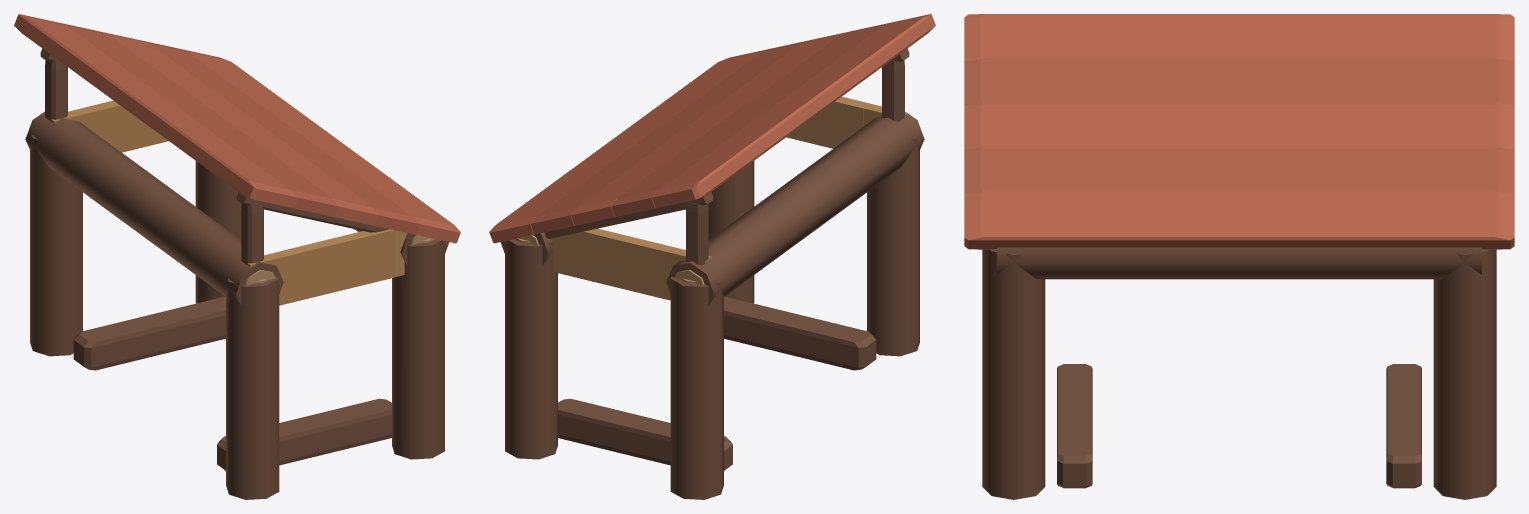
The model's file is log_shed.glb.
3 renders of one model, left to right at view 1: azimuth 30°, elevation 25°; view 2: azimuth 150°, elevation 25°; view 3: azimuth 270°, elevation 25°, orthographic. The views are drawn at different scales.
Visible parts, largest first — view 1: SideRail, ShedPost2, ShedPost4, RoofCourse0, ShedPost, EndRail2, LogSleeper, RoofCourse4, RoofCourse1, RoofCourse2, RoofCourse3, LogSleeper2 (+5 smaller); view 2: SideRail, ShedPost, ShedPost3, RoofCourse0, ShedPost2, LogSleeper2, EndRail, RoofCourse4, RoofCourse1, RoofCourse2, RoofCourse3, LogSleeper (+5 smaller); view 3: RoofCourse4, RoofCourse1, RoofCourse2, RoofCourse0, RoofCourse3, SideRail2, ShedPost3, ShedPost4, LogSleeper, LogSleeper2.
Boxes of the visible parts, <box> form: SideRail: <box>25,112,283,304</box>; ShedPost2: <box>226,276,279,499</box>; ShedPost4: <box>392,238,444,459</box>; RoofCourse0: <box>14,14,298,208</box>; ShedPost: <box>30,135,82,356</box>; EndRail2: <box>244,229,407,305</box>; LogSleeper: <box>73,296,225,370</box>; RoofCourse4: <box>181,49,460,243</box>; RoofCourse1: <box>60,23,338,216</box>; RoofCourse2: <box>101,31,378,225</box>; RoofCourse3: <box>141,40,419,234</box>; LogSleeper2: <box>217,398,391,470</box>; SideRail: <box>666,112,924,304</box>; ShedPost: <box>670,276,723,499</box>; ShedPost3: <box>505,238,557,459</box>; RoofCourse0: <box>651,14,935,208</box>; ShedPost2: <box>867,135,919,356</box>; LogSleeper2: <box>724,296,876,370</box>; EndRail: <box>551,228,711,300</box>; RoofCourse4: <box>489,49,768,243</box>; RoofCourse1: <box>611,23,889,216</box>; RoofCourse2: <box>571,31,848,225</box>; RoofCourse3: <box>530,40,808,234</box>; LogSleeper: <box>558,398,732,470</box>; RoofCourse4: <box>964,190,1514,249</box>; RoofCourse1: <box>964,58,1514,105</box>; RoofCourse2: <box>964,103,1514,149</box>; RoofCourse0: <box>964,14,1514,61</box>; RoofCourse3: <box>964,147,1514,193</box>; SideRail2: <box>995,247,1483,279</box>; ShedPost3: <box>1433,249,1496,499</box>; ShedPost4: <box>982,249,1045,499</box>; LogSleeper: <box>1386,364,1421,488</box>; LogSleeper2: <box>1057,364,1092,488</box>.
Size of the model in its own units: 1.03 by 1.49 by 2.
